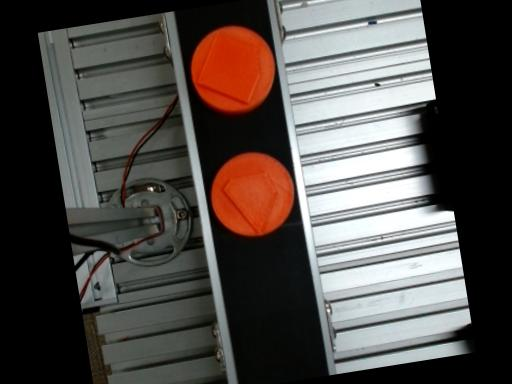Not_Square: (194, 32, 260, 105), (222, 171, 277, 235)
Orange_Waper: (189, 25, 274, 115), (210, 152, 293, 236)
